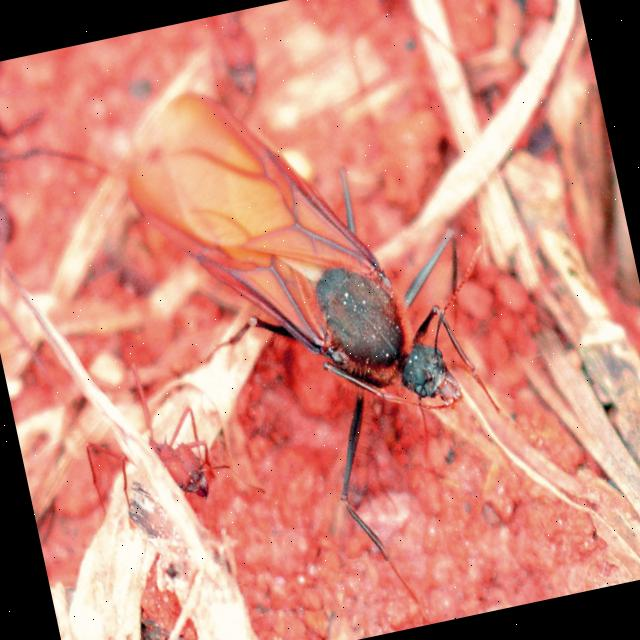Alive-Male-Alate: (108, 41, 540, 640)
